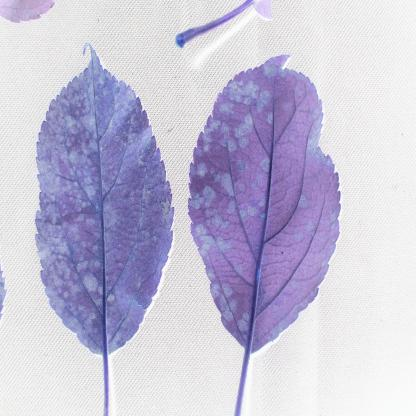apple scab leaf: (185, 43, 346, 365), (28, 41, 182, 373)
